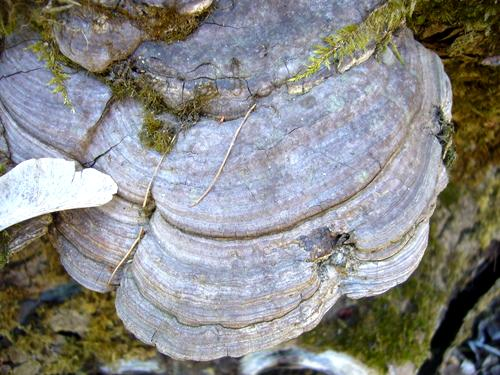Ganoderma - Fruit Body: (0, 0, 454, 363)
